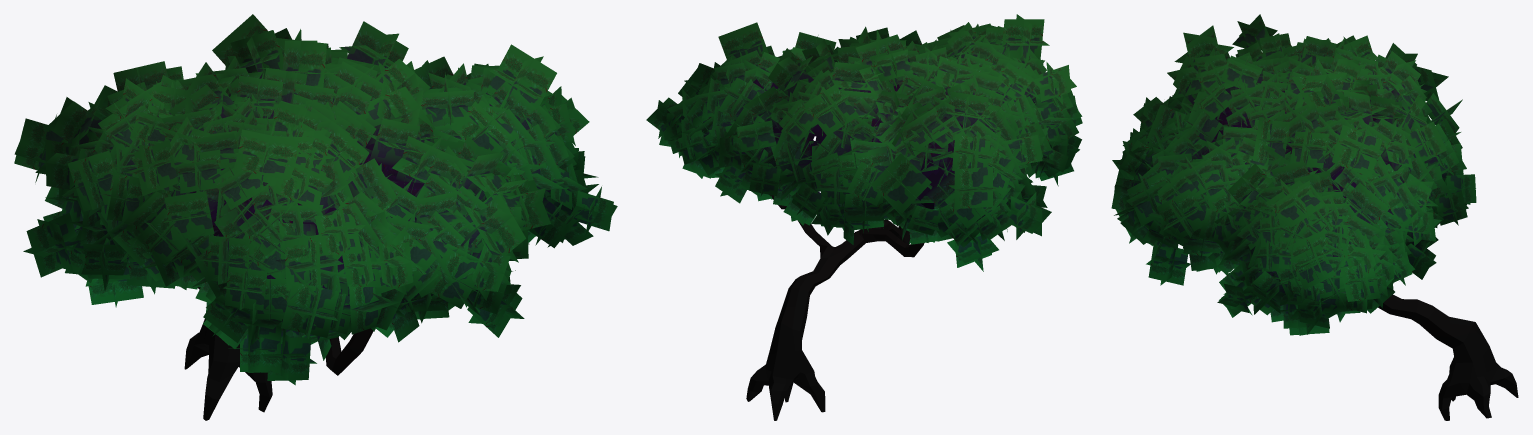
The model's file is SM_Env_Tree_Pohutukawa_04.gltf.
3 views of the same model, side by side, from view 1: azimuth 30°, elevation 25°; view 2: azimuth 150°, elevation 25°; view 3: azimuth 270°, elevation 25° (orthographic). The views are drawn at different scales.
Visible parts, largest first — view 1: SM_Env_Tree_Pohutukawa_04_LOD0; view 2: SM_Env_Tree_Pohutukawa_04_LOD0; view 3: SM_Env_Tree_Pohutukawa_04_LOD0.
Part boxes in pixels (bbox=[...]): SM_Env_Tree_Pohutukawa_04_LOD0: bbox=[14, 14, 617, 420]; SM_Env_Tree_Pohutukawa_04_LOD0: bbox=[646, 14, 1082, 420]; SM_Env_Tree_Pohutukawa_04_LOD0: bbox=[1111, 14, 1518, 420].
Size of what is drawn, in the model's own units: 4.92 by 3.97 by 4.32.
1 material, 1 textured.
